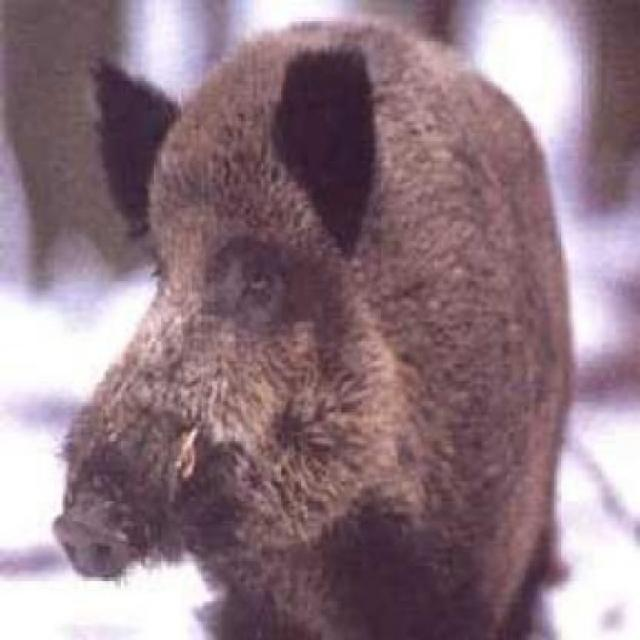pig: (46, 2, 602, 639)
